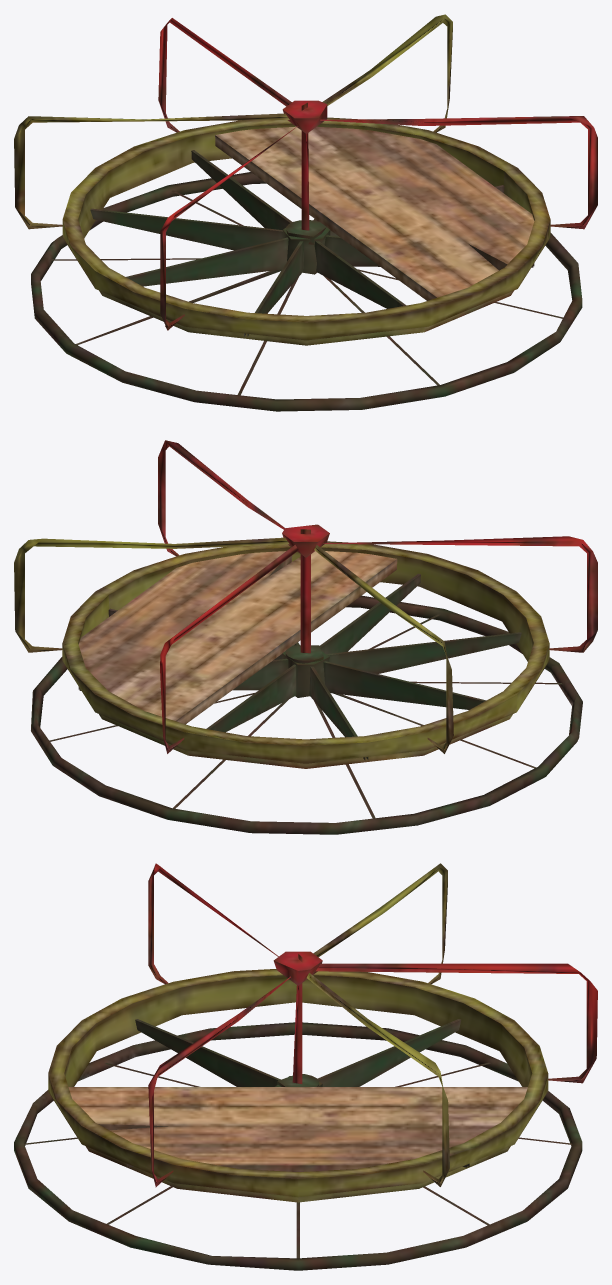
The model's file is carousel.lod1.glb.
The picture shows the model from 3 angles, top to bottom: view 1: azimuth 30°, elevation 25°; view 2: azimuth 150°, elevation 25°; view 3: azimuth 270°, elevation 25°; orthographic projection. The views are drawn at different scales.
Visible parts, largest first — view 1: carousel_002_02 - Default_0; view 2: carousel_002_02 - Default_0; view 3: carousel_002_02 - Default_0.
Part boxes in pixels (x1,y1,x2,y2): carousel_002_02 - Default_0: [14, 14, 597, 411]; carousel_002_02 - Default_0: [14, 440, 597, 834]; carousel_002_02 - Default_0: [14, 863, 597, 1270].
Bounding box in the file's own units: 4.37 × 1.65 × 4.49.
Materials: 1 (1 with a texture image).
